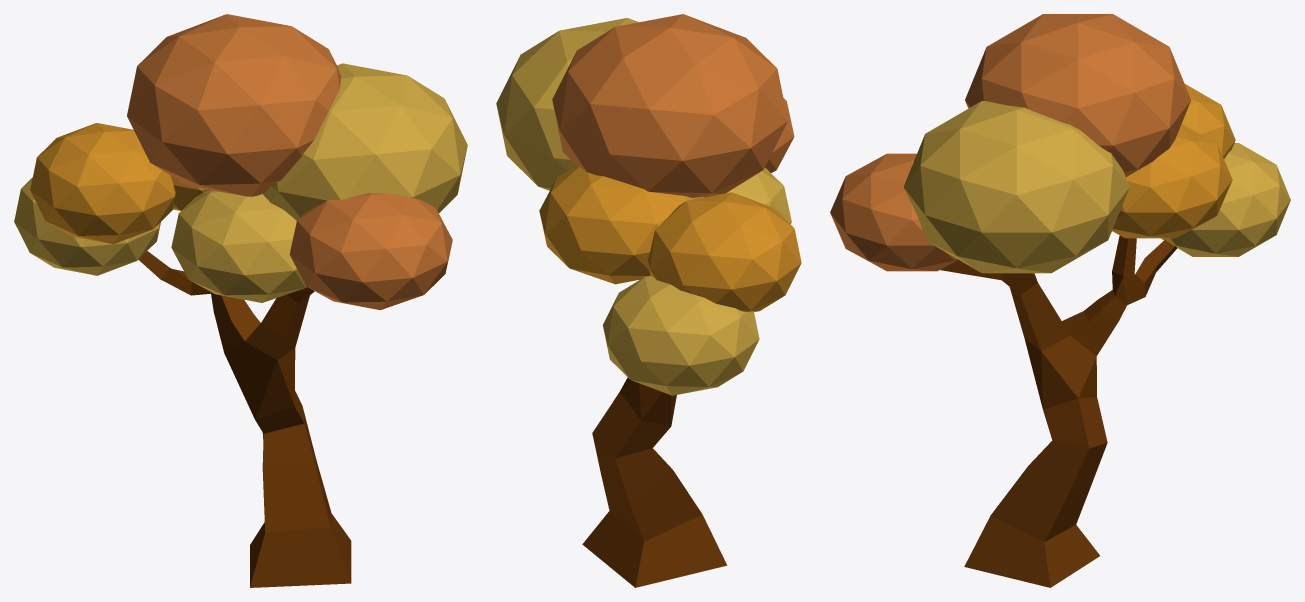
File: Tree1_Orange_b.fbx
The picture shows the model from 3 angles, left to right: view 1: azimuth 30°, elevation 25°; view 2: azimuth 150°, elevation 25°; view 3: azimuth 270°, elevation 25°; orthographic projection. The views are drawn at different scales.
Parts seen in each view (by area): view 1: Icosphere.011, Cube.001, Icosphere.009, Icosphere.010, Icosphere.012, Icosphere.013, Icosphere.007, Icosphere.008; view 2: Icosphere.011, Cube.001, Icosphere.012, Icosphere.007, Icosphere.008, Icosphere.009, Icosphere.013, Icosphere.010; view 3: Icosphere.009, Cube.001, Icosphere.011, Icosphere.010, Icosphere.008, Icosphere.007, Icosphere.012.
Boxes of the visible parts, <box> form: Icosphere.011: <box>127,14,341,196</box>; Cube.001: <box>138,251,351,587</box>; Icosphere.009: <box>263,63,467,220</box>; Icosphere.010: <box>289,193,452,310</box>; Icosphere.012: <box>30,123,175,244</box>; Icosphere.013: <box>171,190,306,302</box>; Icosphere.007: <box>14,177,160,275</box>; Icosphere.008: <box>171,176,209,210</box>; Icosphere.011: <box>552,14,787,197</box>; Cube.001: <box>582,377,727,587</box>; Icosphere.012: <box>647,192,801,311</box>; Icosphere.007: <box>603,275,759,395</box>; Icosphere.008: <box>539,166,703,284</box>; Icosphere.009: <box>496,18,638,190</box>; Icosphere.013: <box>726,168,791,223</box>; Icosphere.010: <box>765,98,794,172</box>; Icosphere.009: <box>903,101,1129,273</box>; Cube.001: <box>940,235,1177,587</box>; Icosphere.011: <box>965,14,1190,176</box>; Icosphere.010: <box>830,153,958,271</box>; Icosphere.008: <box>1112,124,1232,238</box>; Icosphere.007: <box>1161,143,1290,256</box>; Icosphere.012: <box>1181,84,1235,158</box>.
Size of the model in its own units: 602 by 913 by 730.
